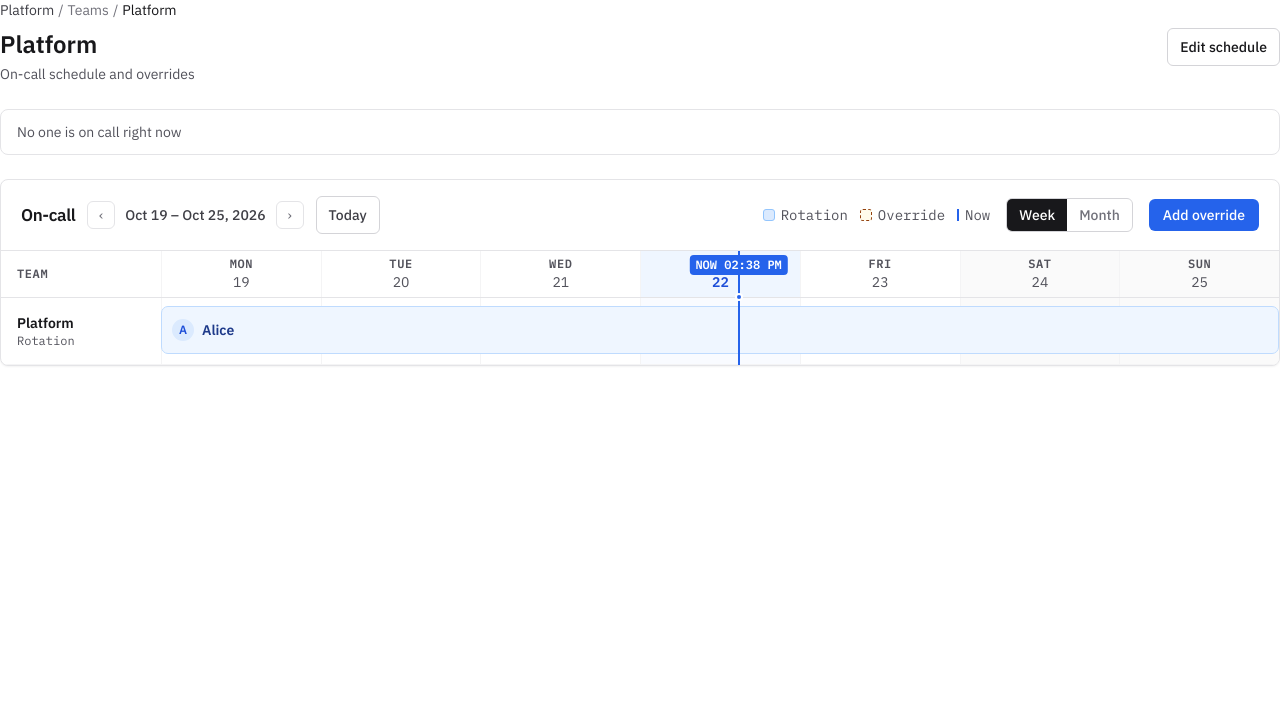
Test: TeamShiftsRoute › updates existing schedule as admin
This screenshot has width=1280, height=720.
Click the button "Edit schedule".
click(1224, 47)  # box [1167,28,1279,66]
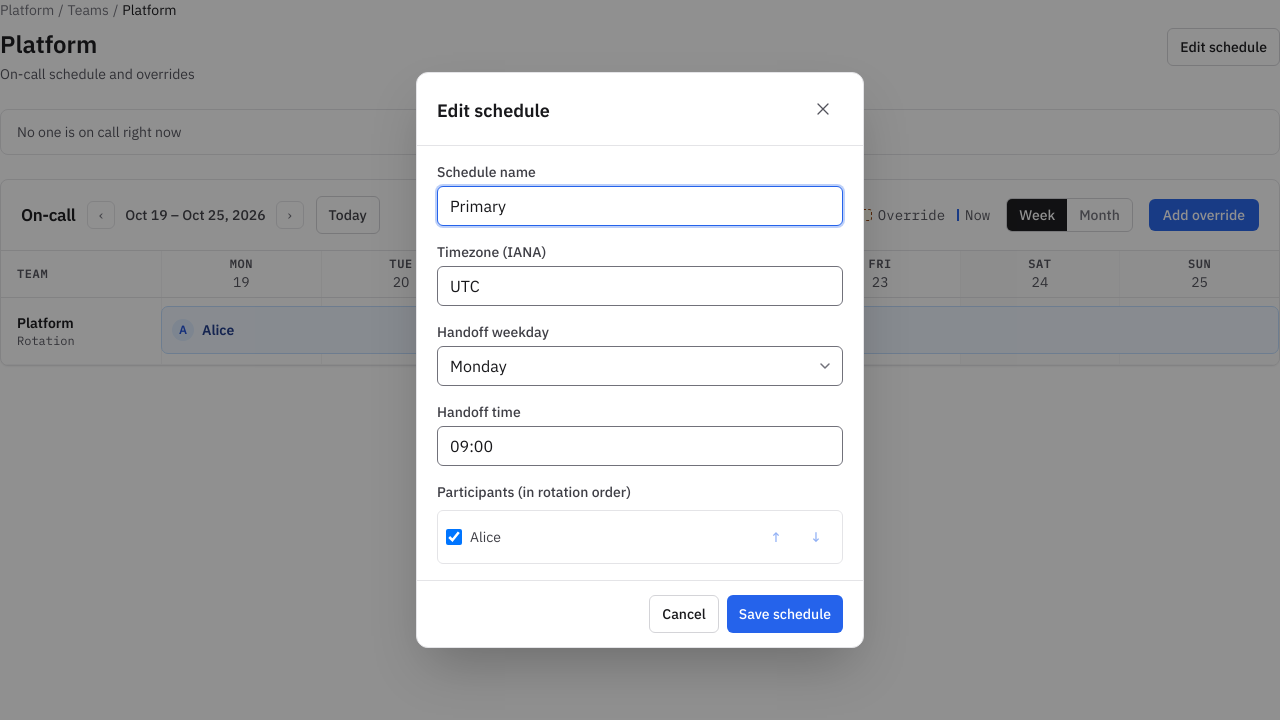
Click the button "Save schedule".
click(785, 614)  # box [727,595,843,633]
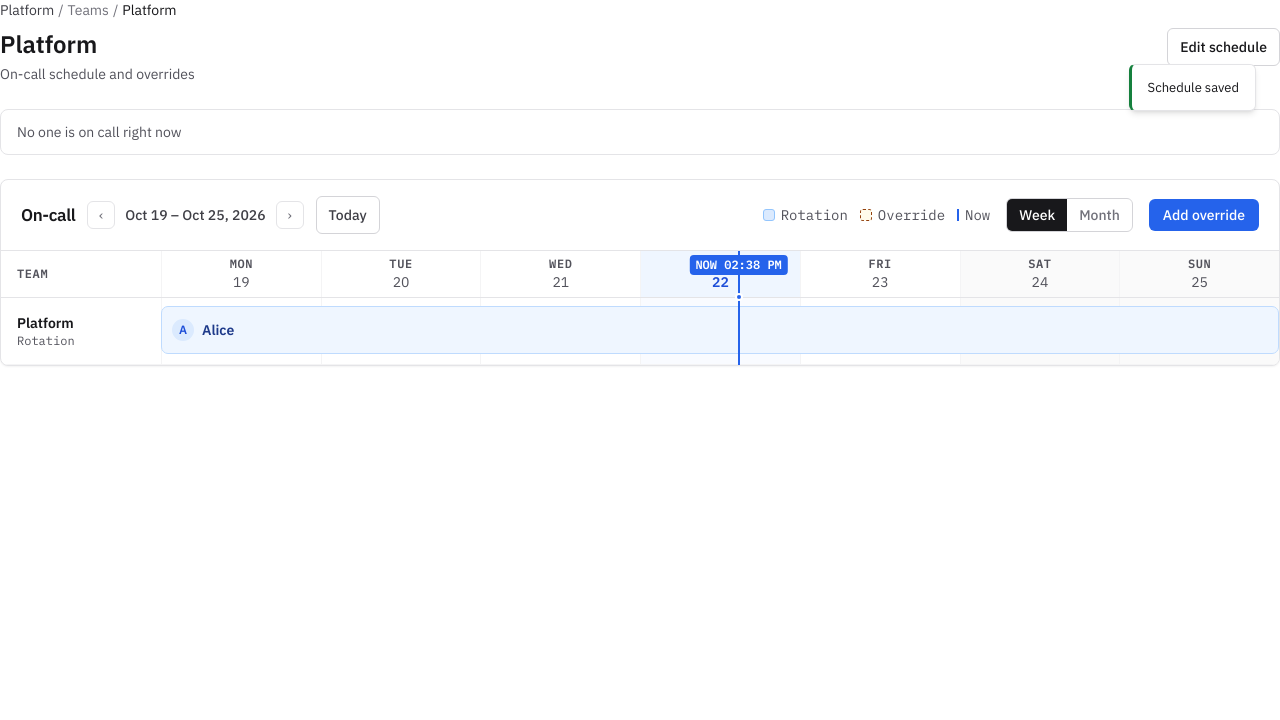
Result: the text "Schedule saved" is shown at [1129,64,1256,111]
